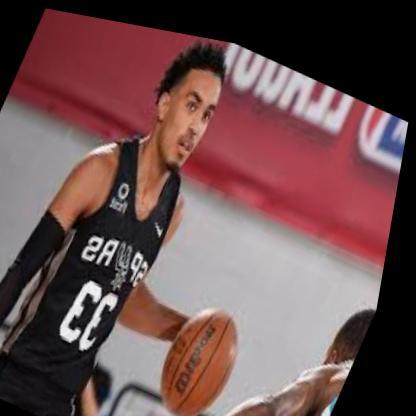basketball: (158, 284, 265, 416)
